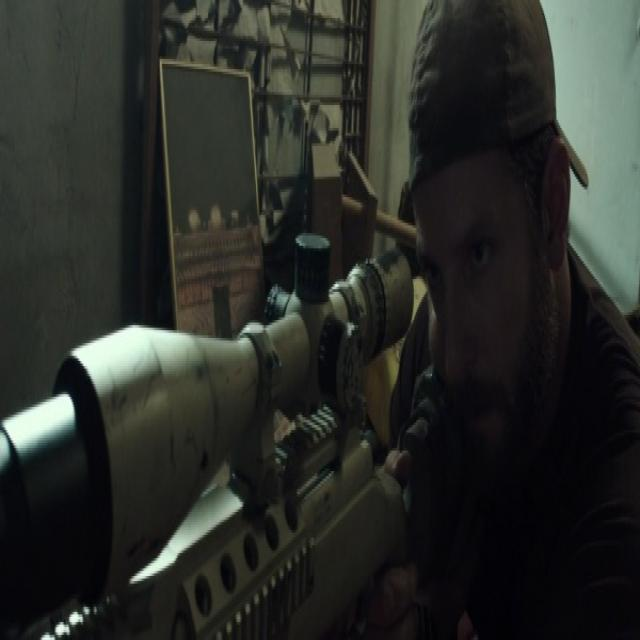rifle: (1, 223, 464, 640)
